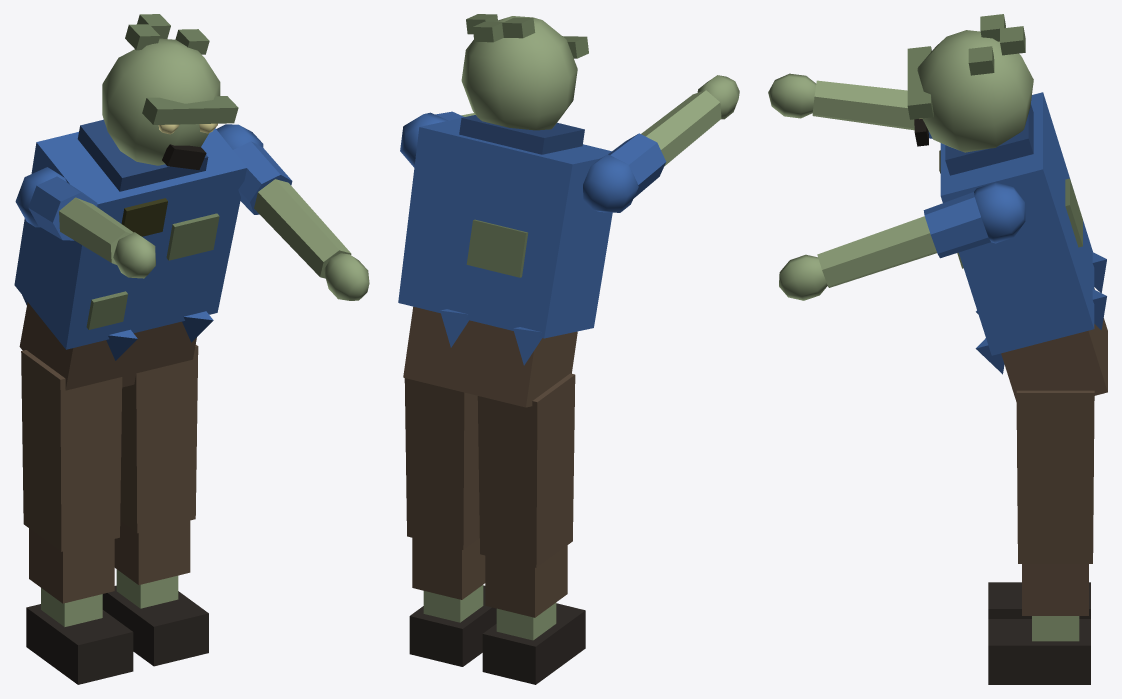
The model's file is zombie_walker.glb.
The picture shows the model from 3 angles, left to right: view 1: azimuth 30°, elevation 25°; view 2: azimuth 150°, elevation 25°; view 3: azimuth 270°, elevation 25°; orthographic projection. The views are drawn at different scales.
Visible parts, largest first — view 1: Body, LegR, LegL, Head, ArmL, ArmR; view 2: Body, LegR, LegL, Head, ArmR, ArmL; view 3: Body, LegL, Head, ArmL, ArmR, LegR.
Boxes of the visible parts, x1,y1,x2,y2 form: Body: (14, 119, 246, 390); LegR: (21, 350, 133, 684); LegL: (102, 344, 208, 666); Head: (102, 14, 238, 169); ArmL: (216, 124, 369, 300); ArmR: (15, 167, 155, 278); Body: (398, 115, 612, 407); LegR: (477, 373, 585, 684); LegL: (404, 378, 496, 666); Head: (461, 14, 588, 130); ArmR: (583, 75, 739, 212); ArmL: (400, 111, 475, 167); Body: (939, 92, 1107, 401); LegL: (988, 390, 1094, 684); Head: (907, 14, 1033, 152); ArmL: (779, 182, 1025, 300); ArmR: (768, 73, 932, 138); LegR: (988, 582, 1090, 618).
Bounding box in the file's own units: 0.7294 × 1.78 × 0.8603.
